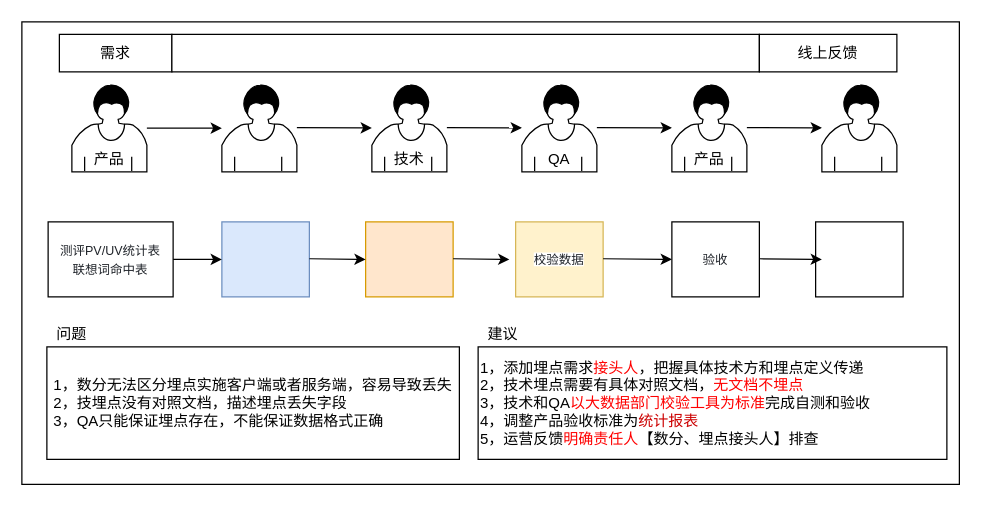
Some shapes in this 981 by 506 pixel diagram are drawn without their labels. The shapes that lost their labels are listed below. From the top down, each one's box as (x1, y1, x2, y2) in pixels, then its label:
(171, 33, 759, 72): 实施
(221, 83, 297, 172): 数分
(821, 83, 897, 172): 运营
(221, 221, 309, 297): 建模 需要埋点定义
(364, 221, 453, 297): 【客户端/ 服务端】 埋
(814, 221, 903, 297): 使用/反馈
